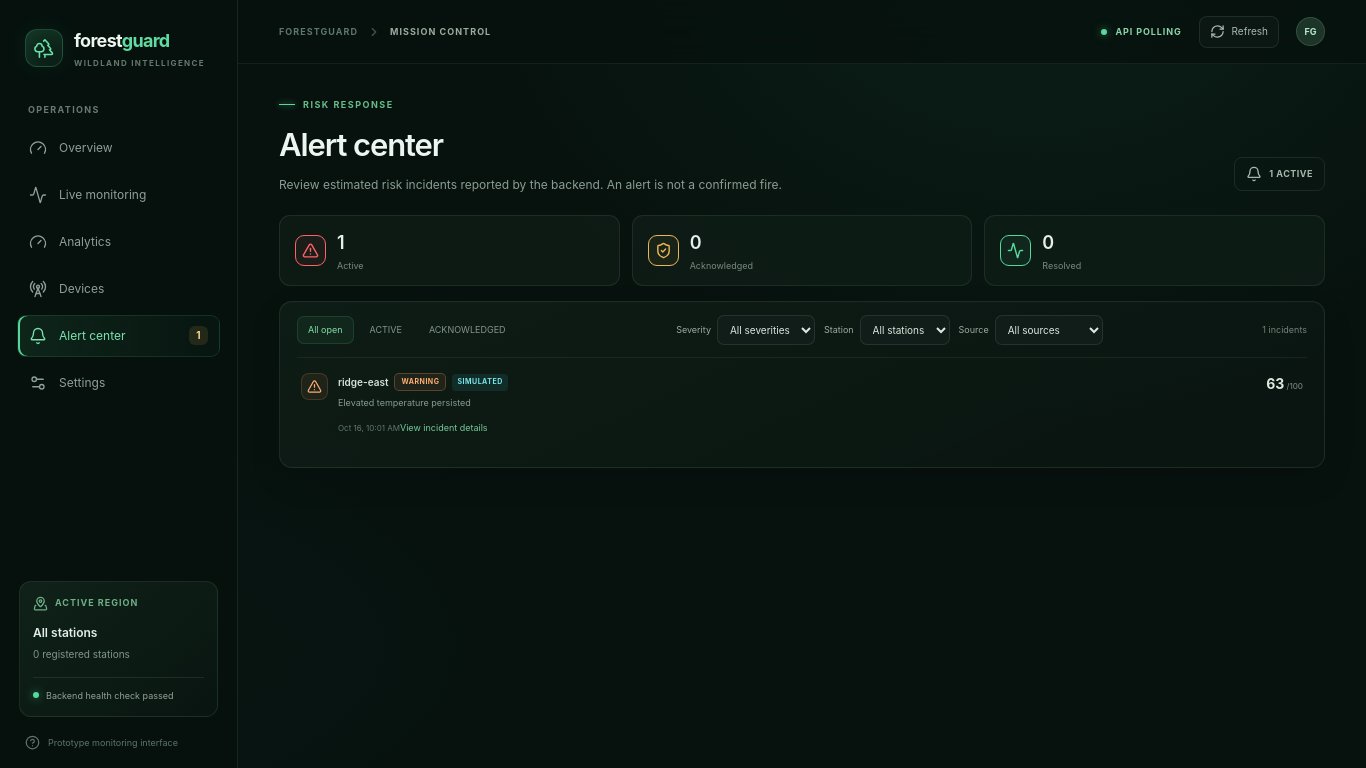
Test: mission control interface › labels simulated alerts and filters the live alert list
expect the heading "Alert center" is shown: met, box [279,126,443,162]
expect the text "SIMULATED" is shown: met, box [452,374,508,390]
Step 1. Click the button "ACKNOWLEDGED" → (467, 330), box [418,316,517,344]
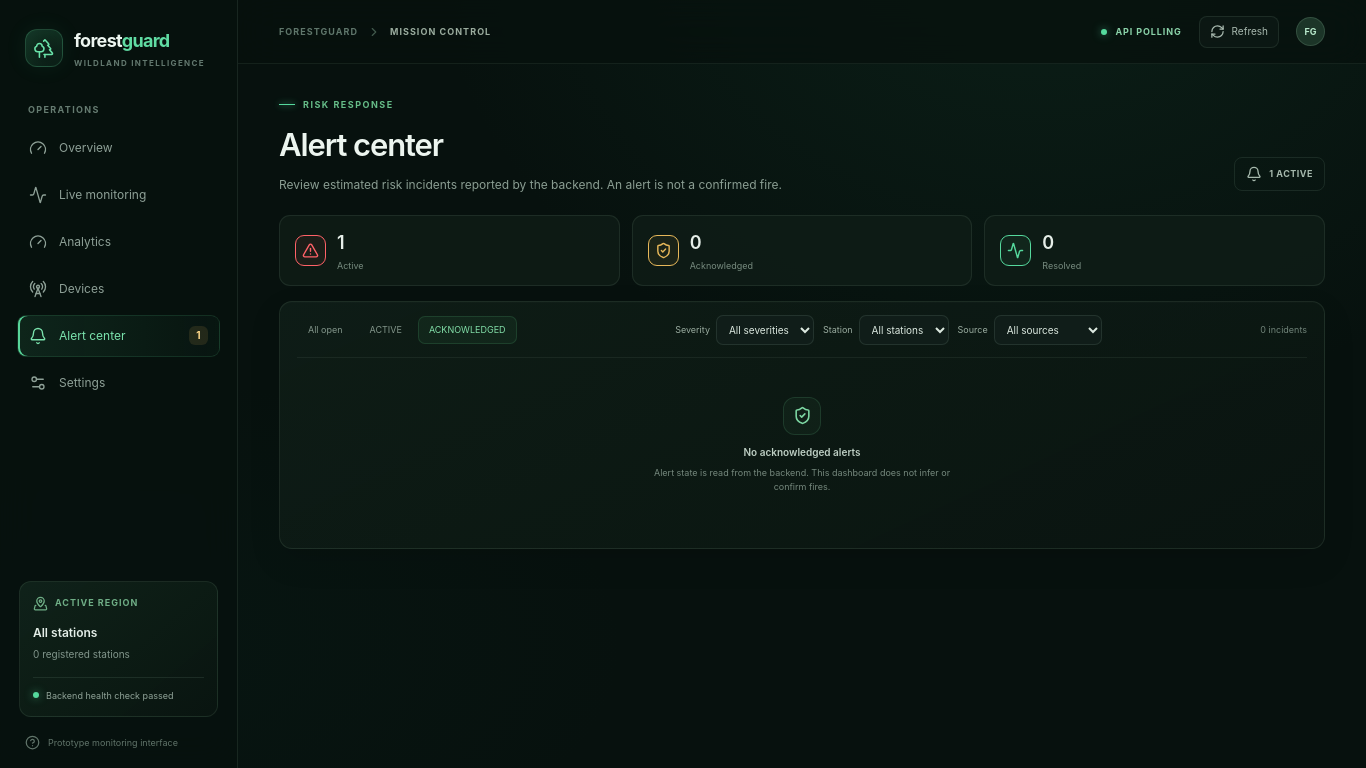
expect the text "No acknowledged alerts" is shown: met, box [744,445,860,460]
